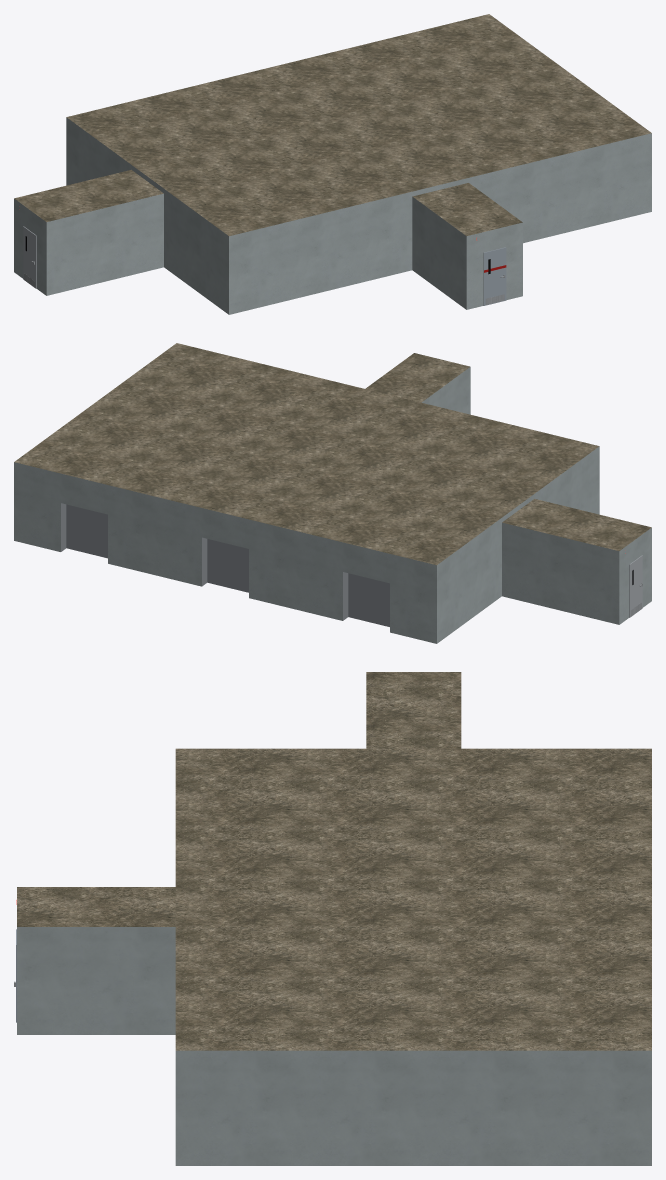
File: breaker_room.glb
3 views of the same model, one above another, from view 1: azimuth 30°, elevation 25°; view 2: azimuth 150°, elevation 25°; view 3: azimuth 270°, elevation 25° (orthographic). The views are drawn at different scales.
Parts seen in each view (by area): view 1: Ceiling_Concrete, Wall_Service, DoorLeaf_corridors_b, DoorLeaf_corridors_a; view 2: Ceiling_Concrete, Wall_Service, Breaker_Paint, DoorLeaf_corridors_a; view 3: Ceiling_Concrete, Wall_Service.
Boxes of the visible parts, x1,y1,x2,y2 form: Ceiling_Concrete: (14, 14, 651, 236); Wall_Service: (14, 117, 651, 314); DoorLeaf_corridors_b: (483, 247, 506, 305); DoorLeaf_corridors_a: (23, 226, 36, 288); Ceiling_Concrete: (14, 343, 651, 565); Wall_Service: (14, 367, 651, 643); Breaker_Paint: (61, 503, 389, 626); DoorLeaf_corridors_a: (629, 555, 642, 617); Ceiling_Concrete: (17, 672, 651, 1050); Wall_Service: (17, 927, 651, 1165).
Bounding box in the file's own units: 23.07 × 3.2 × 16.07.
Materials: 27 (9 with a texture image).
